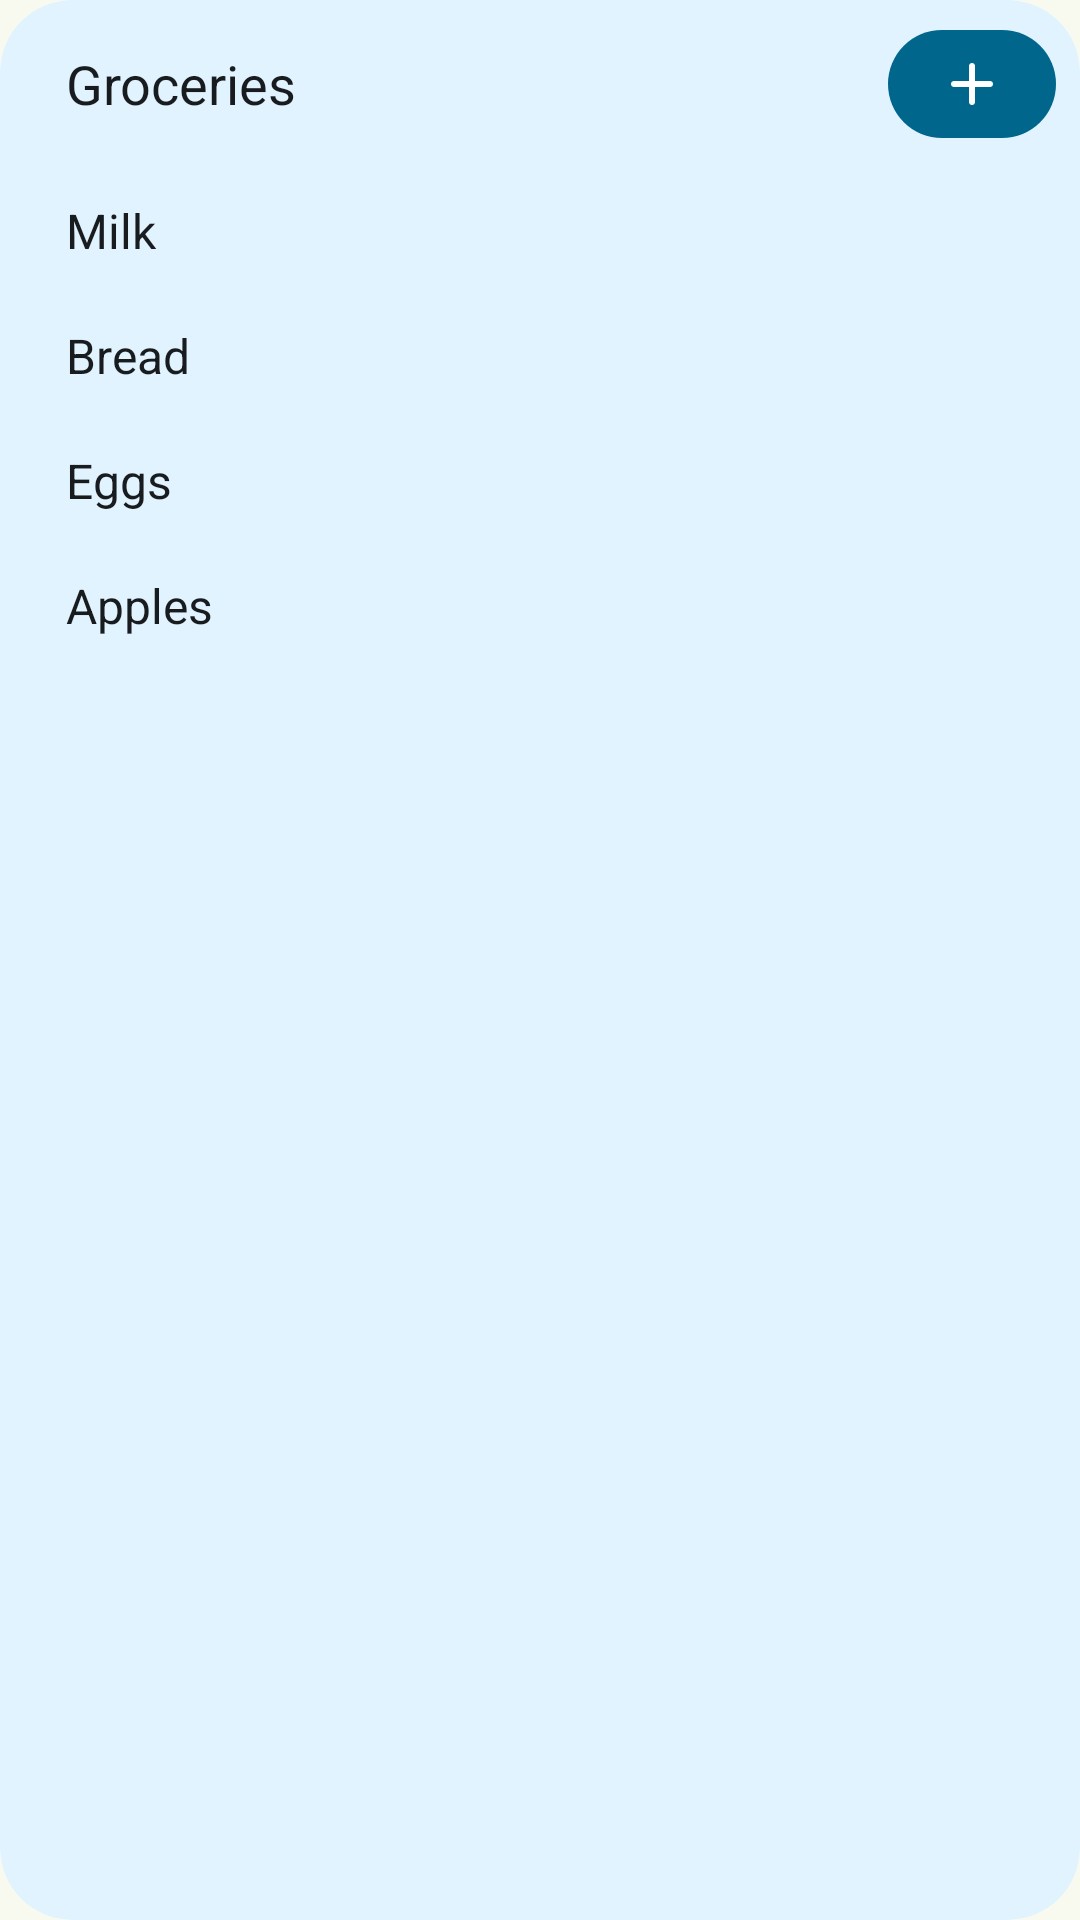

Icon bounding boxes for this 1080px×1920px phone screenshot, format {"left": x1, "top": y1, "right": x2, "bottom": y2}:
widget add: {"left": 951, "top": 63, "right": 993, "bottom": 105}
